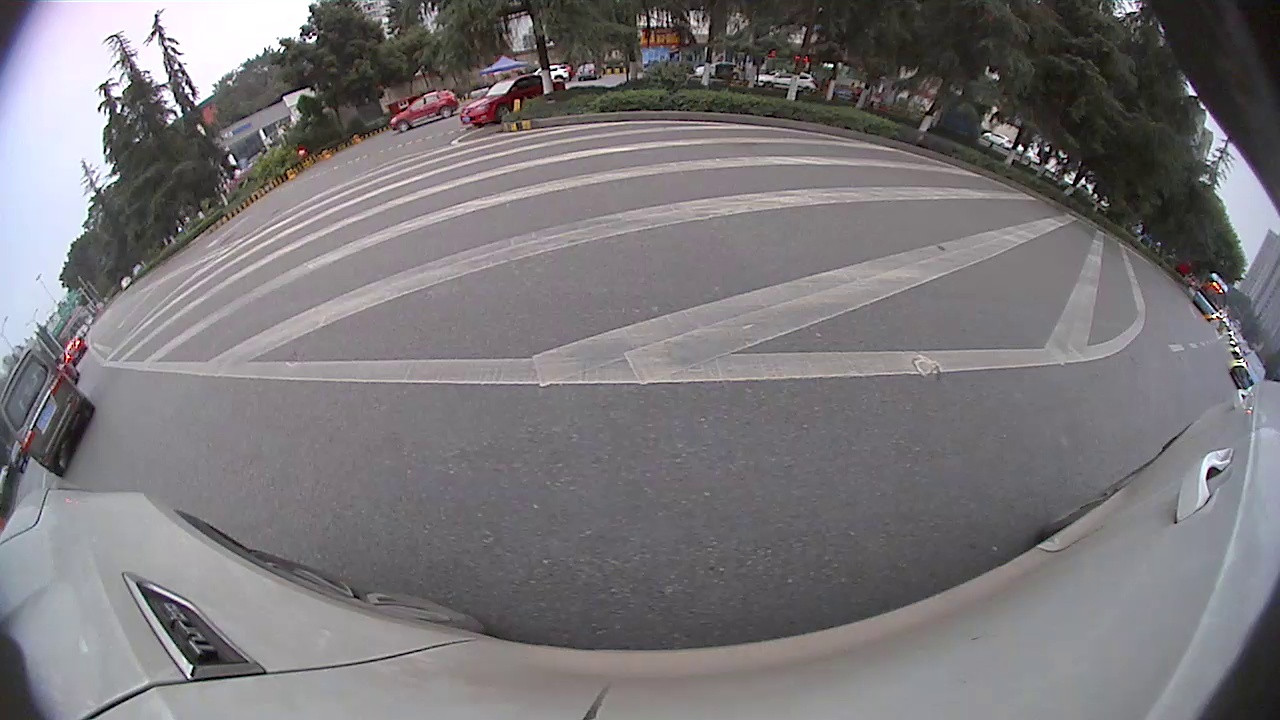car: (273, 59, 576, 199), (838, 92, 987, 202), (7, 274, 119, 394), (1067, 232, 1152, 328), (1166, 358, 1240, 454), (76, 202, 152, 278), (232, 109, 294, 187), (134, 180, 203, 230)
front: (462, 119, 518, 175), (953, 176, 977, 203)
rear: (301, 154, 337, 198), (884, 146, 910, 178), (242, 160, 265, 187)
